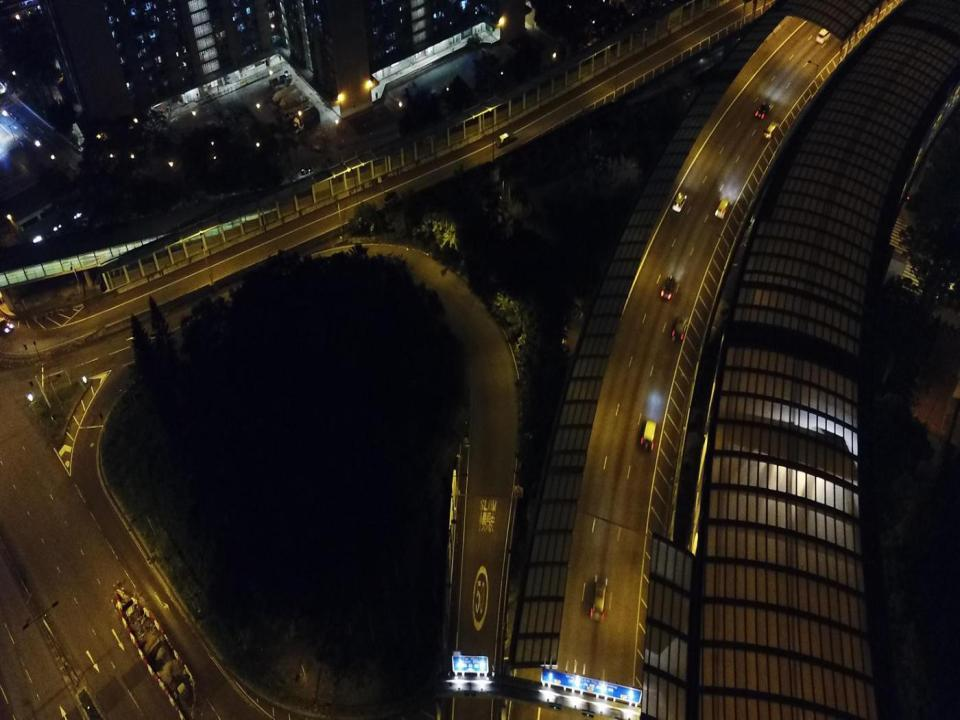car: (590, 575, 608, 622), (640, 418, 656, 452), (672, 314, 689, 342), (660, 275, 678, 301), (494, 129, 516, 148), (714, 197, 730, 221), (754, 99, 772, 120), (762, 120, 780, 140), (671, 191, 687, 213), (816, 25, 832, 44)
truck: (290, 105, 320, 135), (280, 95, 310, 123)
